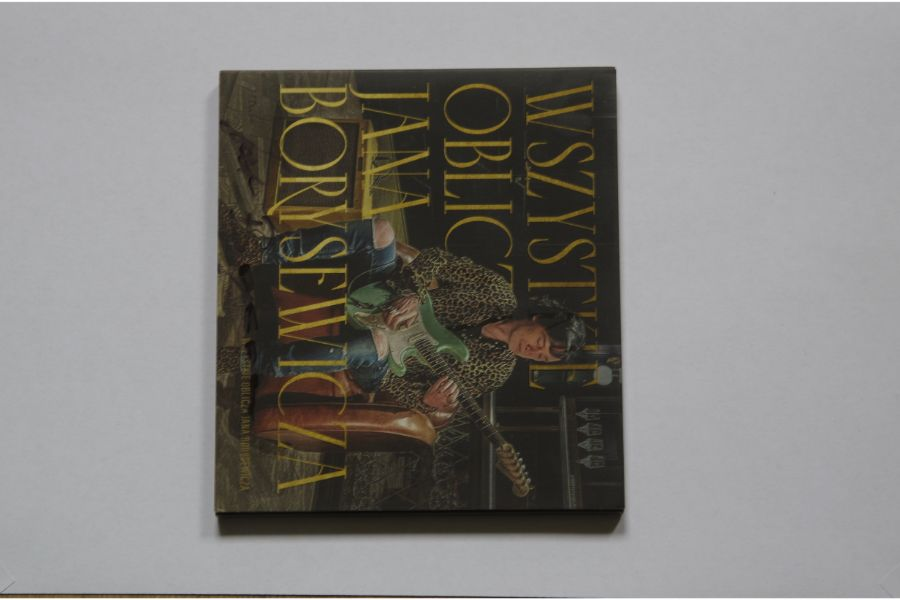album: (213, 68, 627, 516)
